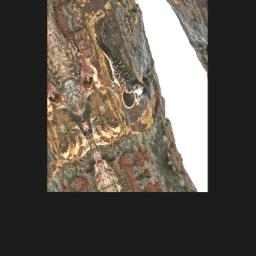Woodpecker: (89, 25, 150, 114)
